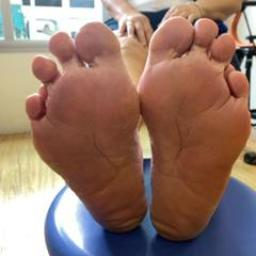Plantar View -Both Feet-: (12, 6, 255, 255)
